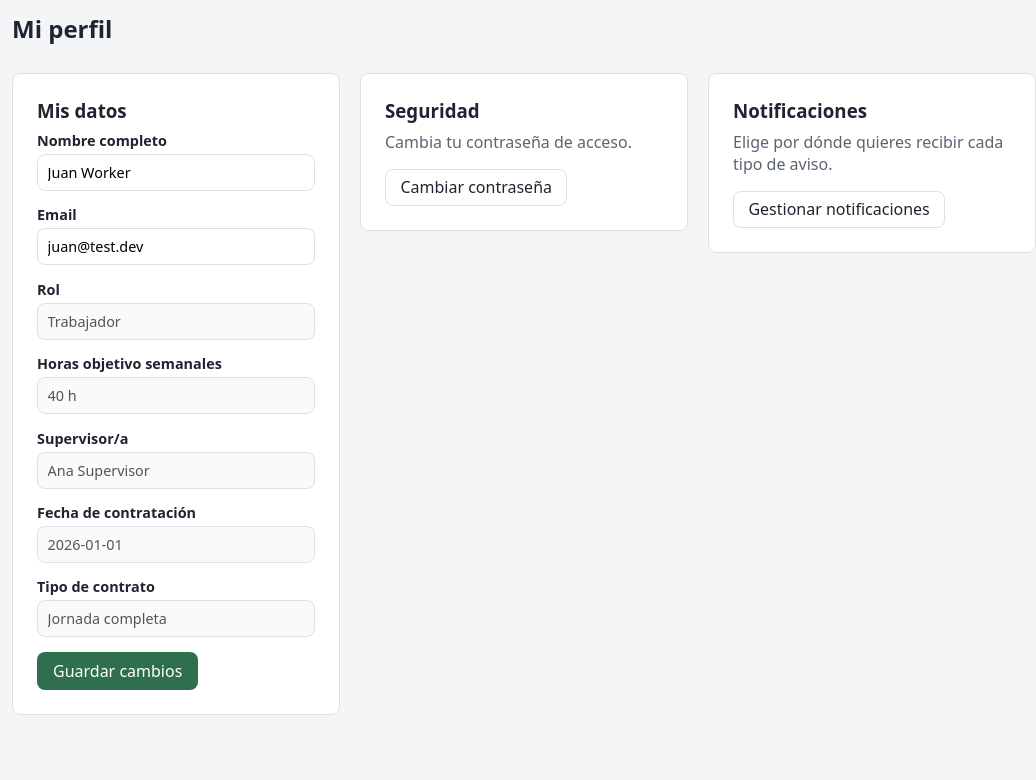
Test: Profile › muestra un error si falla el guardado del formulario
Check: the field showing "Juan Worker" is shown, box [37,154,315,191]
Click the button "Guardar cambios".
click(118, 671)  # box [37,652,198,690]
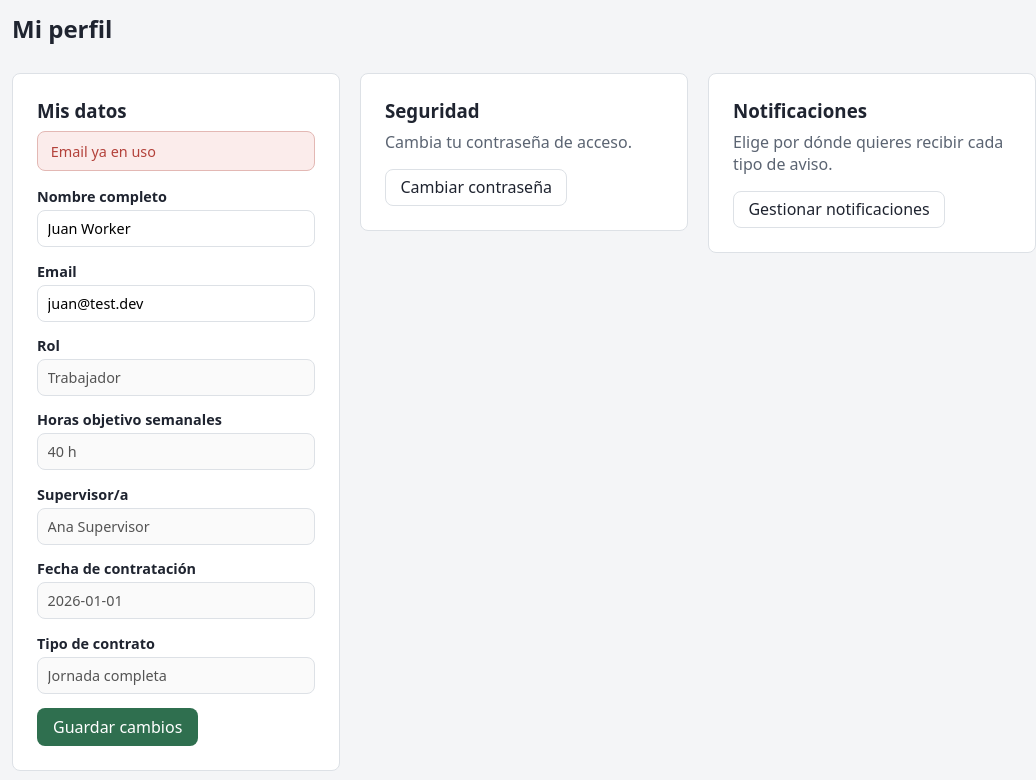
Check: the text "Email ya en uso" is shown, box [37,131,315,171]
